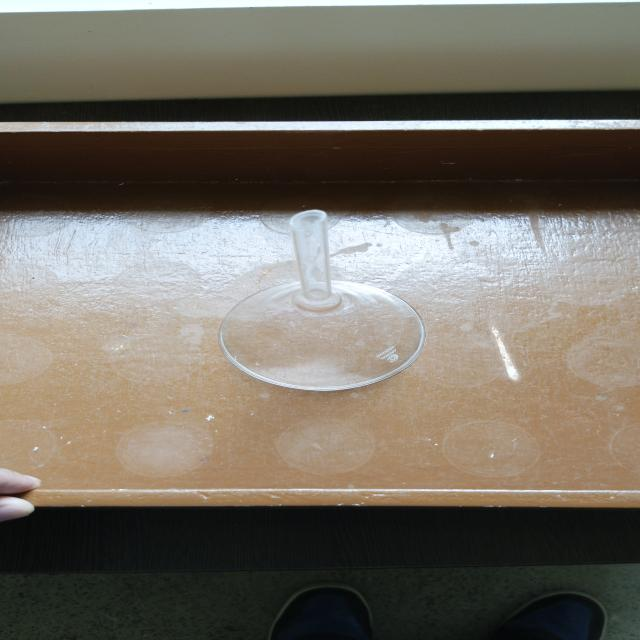funnel: (218, 211, 427, 394)
